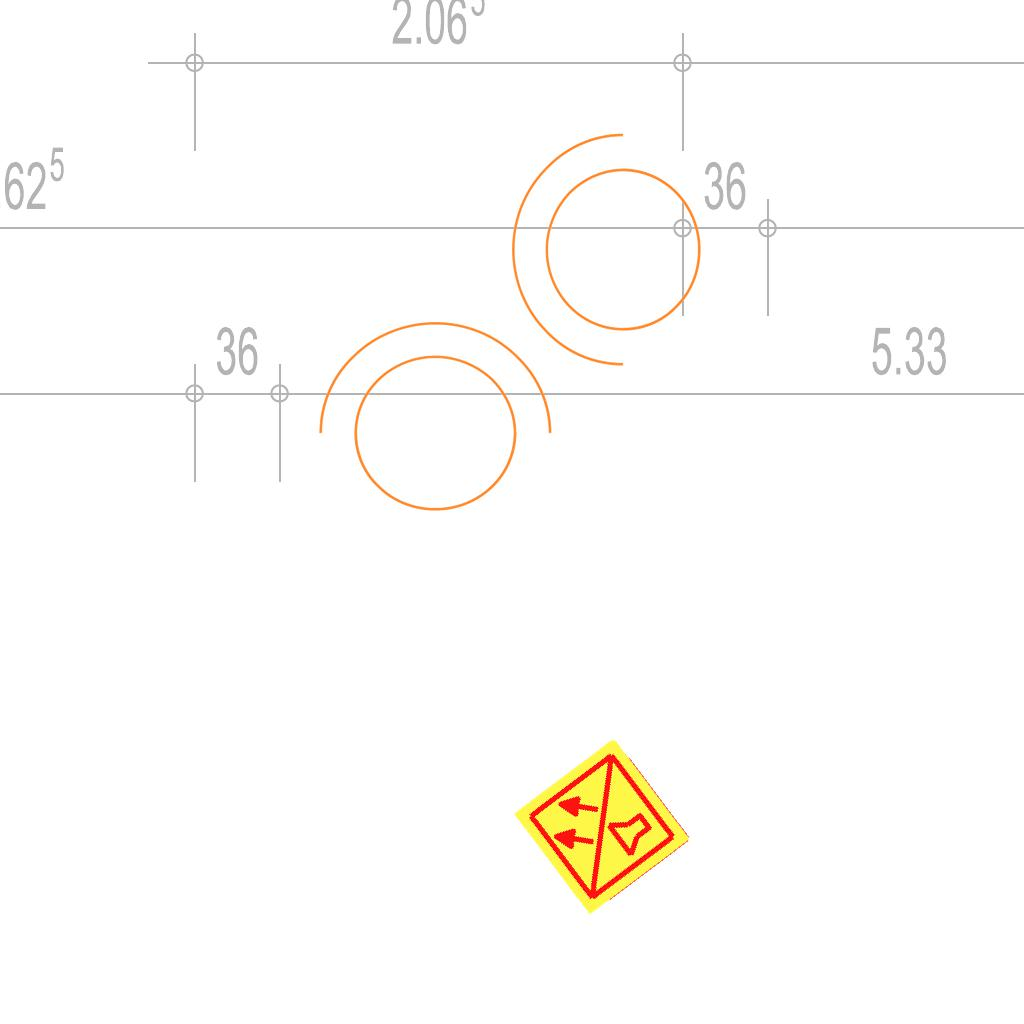OKW_Multisensormelder_(Kombination_optischer_Rauch-Kahlenmonoxid_Waerme-Melder): (509, 733, 695, 919)
Scheinwerfer_fuer_Alarmbeleuchtung: (297, 311, 561, 536), (501, 124, 726, 388)
